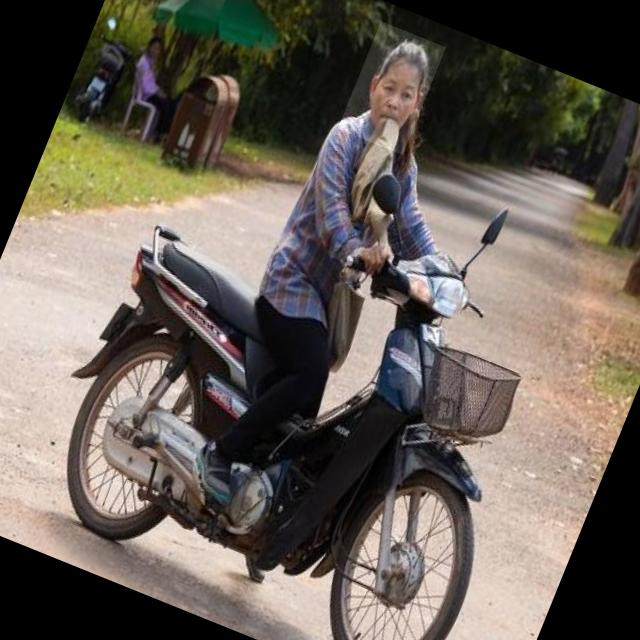without helmet: (336, 22, 446, 154)
